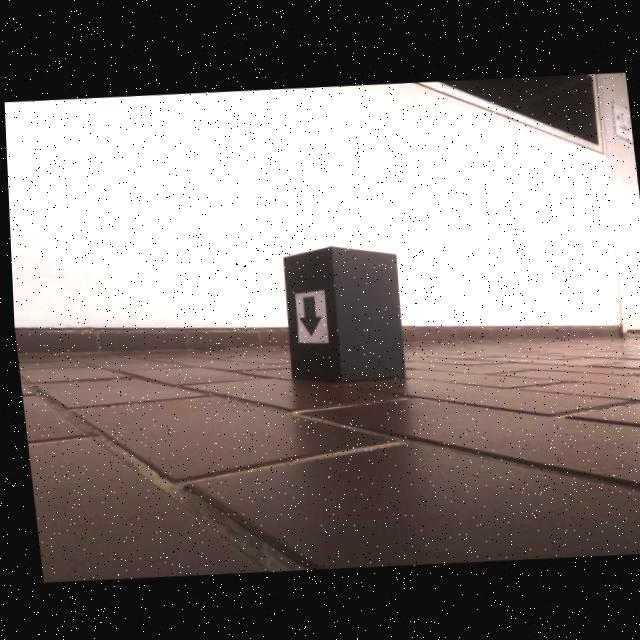DOWN: (295, 294, 319, 336)
